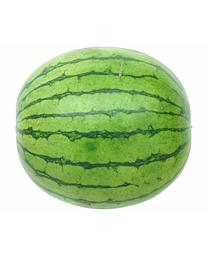watermelon: (18, 46, 193, 210)
